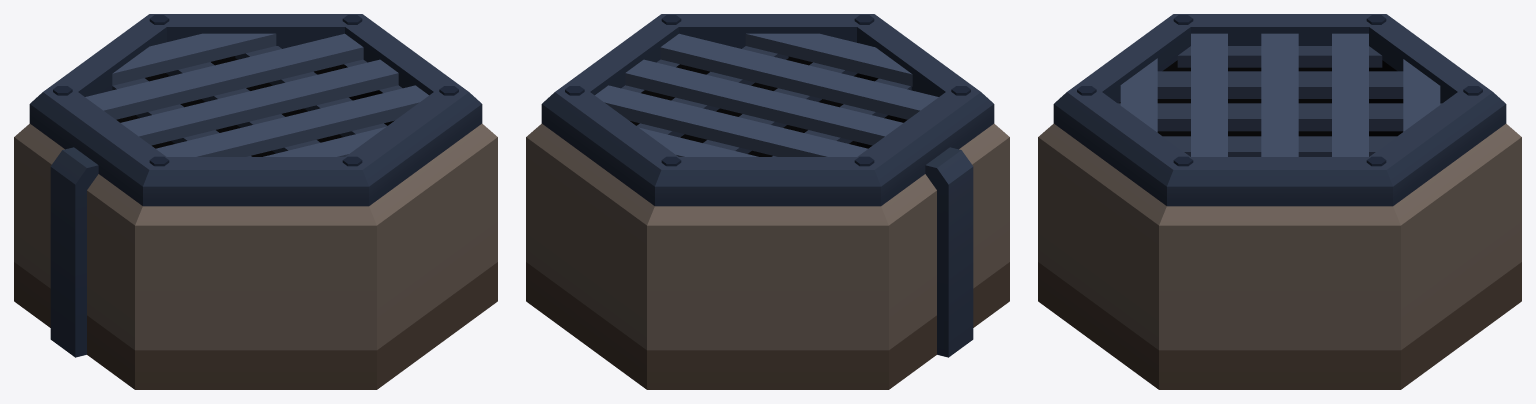
The model's file is Pillar 05.FBX.
The picture shows the model from 3 angles, left to right: view 1: azimuth 30°, elevation 25°; view 2: azimuth 150°, elevation 25°; view 3: azimuth 270°, elevation 25°; orthographic projection.
Parts seen in each view (by area): view 1: Pillar 05; view 2: Pillar 05; view 3: Pillar 05.
Boxes of the visible parts, x1=… form: Pillar 05: x1=14, y1=14, x2=497, y2=389; Pillar 05: x1=526, y1=14, x2=1009, y2=389; Pillar 05: x1=1038, y1=14, x2=1521, y2=389.
Bounding box in the file's own units: 289 × 156 × 323.
Materials: 1 (1 with a texture image).
